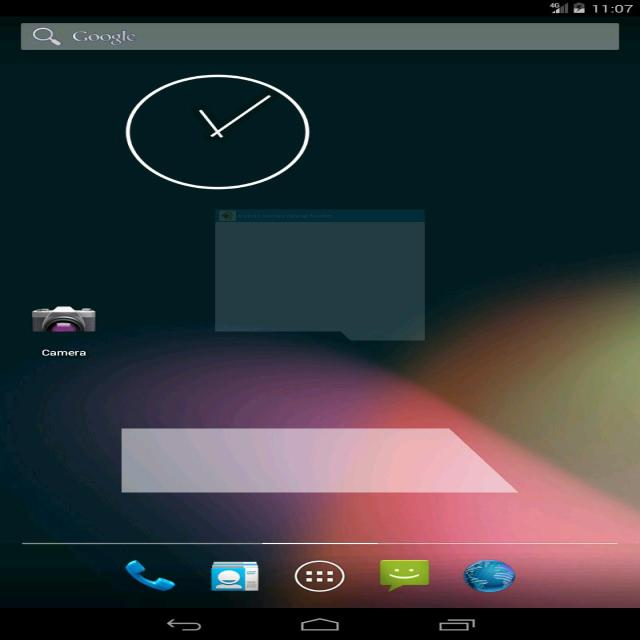button: (122, 75, 311, 191), (14, 296, 109, 365), (362, 550, 446, 602), (106, 549, 191, 600), (286, 550, 356, 601), (204, 550, 271, 601), (460, 551, 523, 601), (26, 25, 62, 49)
field: (22, 22, 617, 53)
image: (4, 15, 640, 609), (24, 302, 106, 342)
label: (64, 28, 142, 48)
text: (34, 345, 92, 362)
